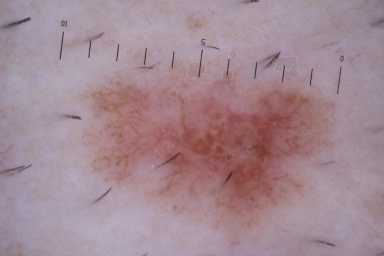melanoma: (92, 67, 336, 220)
